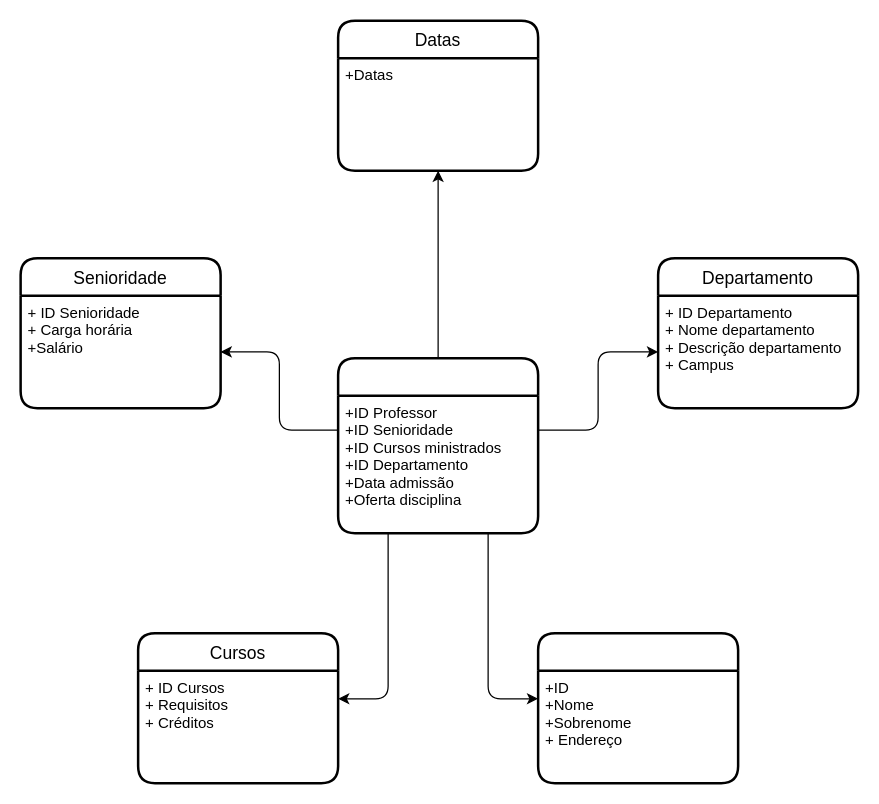
The diagram is 879 pixels wide and 804 high, and some of its shapes have lost their labels. Each missing label, with the box of its shape:
Pessoas: (536, 631, 739, 784)
Professores: (336, 356, 539, 534)
